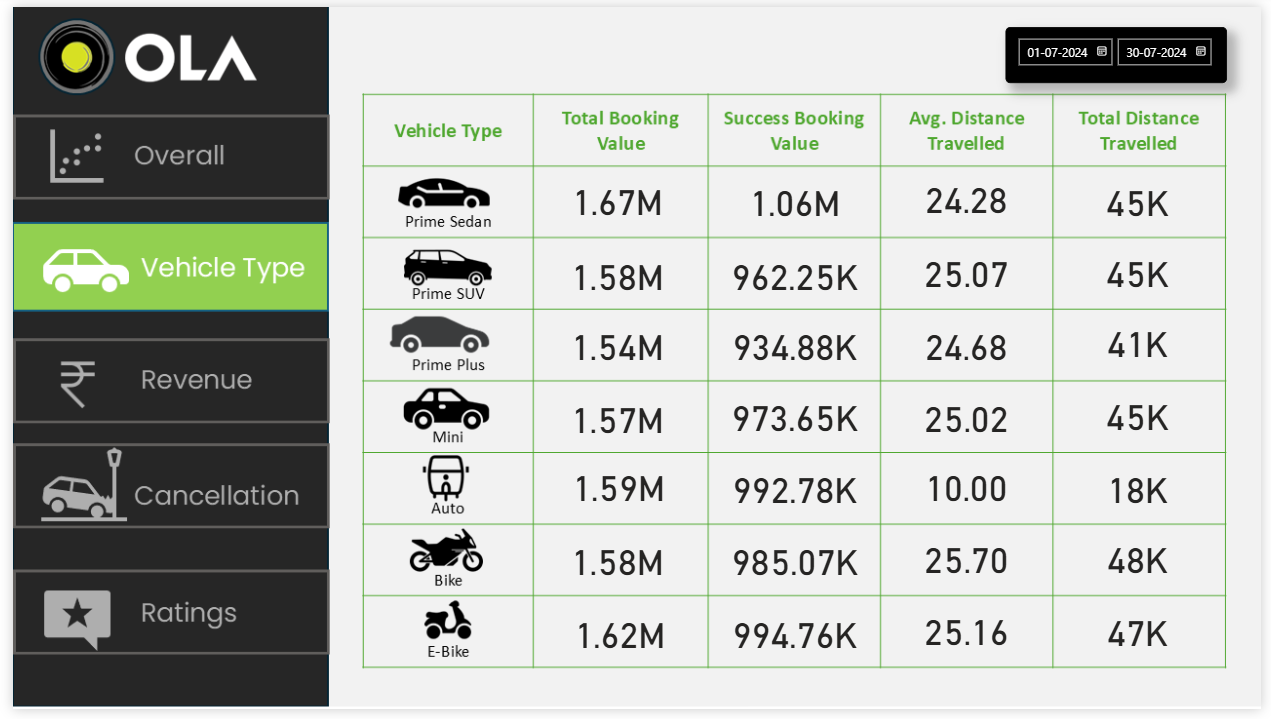

The dashboard page shown, as its layout file describes it:
{"tool":"powerbi","page":{"name":"Vehicle Type","canvas":[1280,720],"ordinal":1},"visuals":[{"type":"actionButton","box":[0,340,325,87.5],"z":0},{"type":"actionButton","box":[0,447.5,325,87.5],"z":1000},{"type":"actionButton","box":[0,577.5,325,87.5],"z":2000},{"type":"actionButton","box":[0,110,325,87.5],"z":3000},{"type":"card","fields":{"Values":["Sum(July.Booking_Value)"]},"box":[546.7,168.9,147.8,56.7],"z":4000},{"type":"card","fields":{"Values":["Sum(July.Booking_Value)"]},"box":[546.7,245.6,147.8,56.7],"z":5000},{"type":"card","fields":{"Values":["Sum(July.Booking_Value)"]},"box":[546.7,317.8,147.8,56.7],"z":6000},{"type":"card","fields":{"Values":["Sum(July.Booking_Value)"]},"box":[546.7,392.2,147.8,56.7],"z":7000},{"type":"card","fields":{"Values":["Sum(July.Booking_Value)"]},"box":[547.8,463.3,147.8,56.7],"z":8000},{"type":"card","fields":{"Values":["Sum(July.Booking_Value)"]},"box":[546.7,538.9,147.8,56.7],"z":9000},{"type":"card","fields":{"Values":["Sum(July.Booking_Value)"]},"box":[548.9,612.2,147.8,56.7],"z":10000},{"type":"card","fields":{"Values":["Sum(July.Booking_Value)"]},"box":[727.8,170,147.8,56.7],"z":11000},{"type":"card","fields":{"Values":["Sum(July.Booking_Value)"]},"box":[727.8,245.6,147.8,56.7],"z":12000},{"type":"card","fields":{"Values":["Sum(July.Booking_Value)"]},"box":[727.8,317.8,147.8,56.7],"z":13000},{"type":"card","fields":{"Values":["Sum(July.Booking_Value)"]},"box":[727.8,391.1,147.8,56.7],"z":14000},{"type":"card","fields":{"Values":["Sum(July.Booking_Value)"]},"box":[727.8,464.4,147.8,56.7],"z":15000},{"type":"card","fields":{"Values":["Sum(July.Booking_Value)"]},"box":[727.8,538.9,147.8,56.7],"z":16000},{"type":"card","fields":{"Values":["Sum(July.Booking_Value)"]},"box":[727.8,612.2,147.8,56.7],"z":17000},{"type":"card","fields":{"Values":["Avg(July.Ride_Distance)"]},"box":[904,168,148,56],"z":18000},{"type":"card","fields":{"Values":["Avg(July.Ride_Distance)"]},"box":[904,244,148,56],"z":19000},{"type":"card","fields":{"Values":["Avg(July.Ride_Distance)"]},"box":[904,318,148,56],"z":20000},{"type":"card","fields":{"Values":["Avg(July.Ride_Distance)"]},"box":[904,392,148,56],"z":21000},{"type":"card","fields":{"Values":["Avg(July.Ride_Distance)"]},"box":[904,462,148,58],"z":22000},{"type":"card","fields":{"Values":["Avg(July.Ride_Distance)"]},"box":[904,536,148,58],"z":23000},{"type":"card","fields":{"Values":["Avg(July.Ride_Distance)"]},"box":[904,610,148,56],"z":24000},{"type":"card","fields":{"Values":["Sum(July.Ride_Distance)"]},"box":[1080,170,148,56],"z":25000},{"type":"card","fields":{"Values":["Sum(July.Ride_Distance)"]},"box":[1080,244,148,56],"z":26000},{"type":"card","fields":{"Values":["Sum(July.Ride_Distance)"]},"box":[1080,316,148,56],"z":27000},{"type":"card","fields":{"Values":["Sum(July.Ride_Distance)"]},"box":[1080,390,148,56],"z":28000},{"type":"card","fields":{"Values":["Sum(July.Ride_Distance)"]},"box":[1080,464,148,58],"z":29000},{"type":"card","fields":{"Values":["Sum(July.Ride_Distance)"]},"box":[1080,536,148,58],"z":30000},{"type":"card","fields":{"Values":["Sum(July.Ride_Distance)"]},"box":[1080,612,148,56],"z":31000},{"type":"slicer","title":"Date","fields":{"Values":["July.Date"]},"box":[1017.5,20,227.5,57.5],"z":32000}]}

Visuals, with their boxes in screenshot pixels (x1, y1, x2, y2), scaled from the page's 1280x720 canvas onto the 1271x719 screenshot:
actionButton: 0, 340, 323, 427
actionButton: 0, 447, 323, 534
actionButton: 0, 577, 323, 664
actionButton: 0, 110, 323, 197
card - Sum(July.Booking_Value): 543, 169, 690, 225
card - Sum(July.Booking_Value): 543, 245, 690, 302
card - Sum(July.Booking_Value): 543, 317, 690, 374
card - Sum(July.Booking_Value): 543, 392, 690, 448
card - Sum(July.Booking_Value): 544, 463, 691, 519
card - Sum(July.Booking_Value): 543, 538, 690, 595
card - Sum(July.Booking_Value): 545, 611, 692, 668
card - Sum(July.Booking_Value): 723, 170, 869, 226
card - Sum(July.Booking_Value): 723, 245, 869, 302
card - Sum(July.Booking_Value): 723, 317, 869, 374
card - Sum(July.Booking_Value): 723, 391, 869, 447
card - Sum(July.Booking_Value): 723, 464, 869, 520
card - Sum(July.Booking_Value): 723, 538, 869, 595
card - Sum(July.Booking_Value): 723, 611, 869, 668
card - Avg(July.Ride_Distance): 898, 168, 1045, 224
card - Avg(July.Ride_Distance): 898, 244, 1045, 300
card - Avg(July.Ride_Distance): 898, 318, 1045, 373
card - Avg(July.Ride_Distance): 898, 391, 1045, 447
card - Avg(July.Ride_Distance): 898, 461, 1045, 519
card - Avg(July.Ride_Distance): 898, 535, 1045, 593
card - Avg(July.Ride_Distance): 898, 609, 1045, 665
card - Sum(July.Ride_Distance): 1072, 170, 1219, 226
card - Sum(July.Ride_Distance): 1072, 244, 1219, 300
card - Sum(July.Ride_Distance): 1072, 316, 1219, 371
card - Sum(July.Ride_Distance): 1072, 389, 1219, 445
card - Sum(July.Ride_Distance): 1072, 463, 1219, 521
card - Sum(July.Ride_Distance): 1072, 535, 1219, 593
card - Sum(July.Ride_Distance): 1072, 611, 1219, 667
"Date" slicer: 1010, 20, 1236, 77
